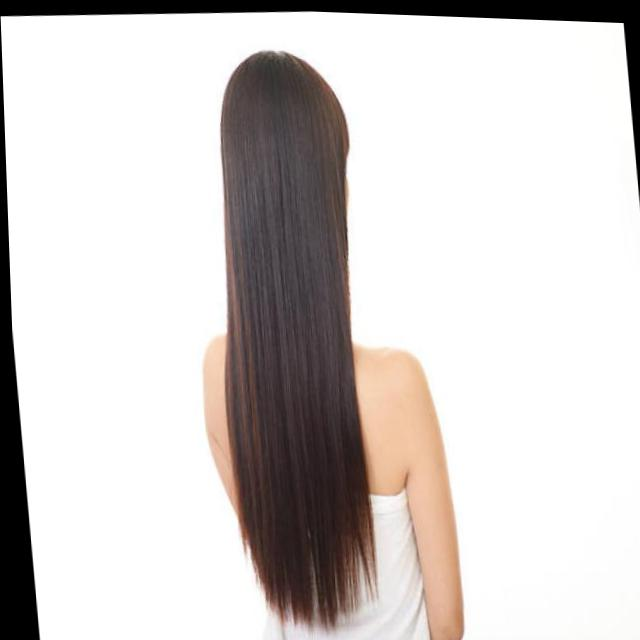no helmet: (206, 36, 365, 353)
